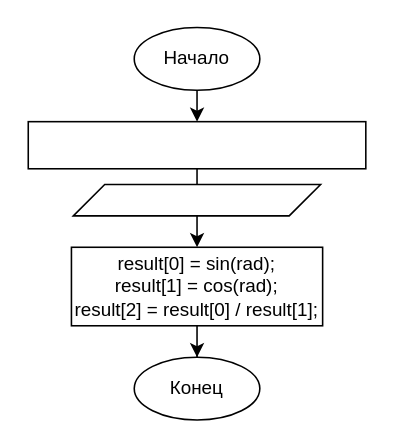
The diagram is 393 pixels wide and 447 high, and some of its shapes have lost their labels. Here are the shapes that lost their labels. From the top down, the box of each, then its label:
(27, 120, 366, 169): Вещественное число rad Массив вещественных чисел result
(72, 183, 321, 216): Получение rad, result
